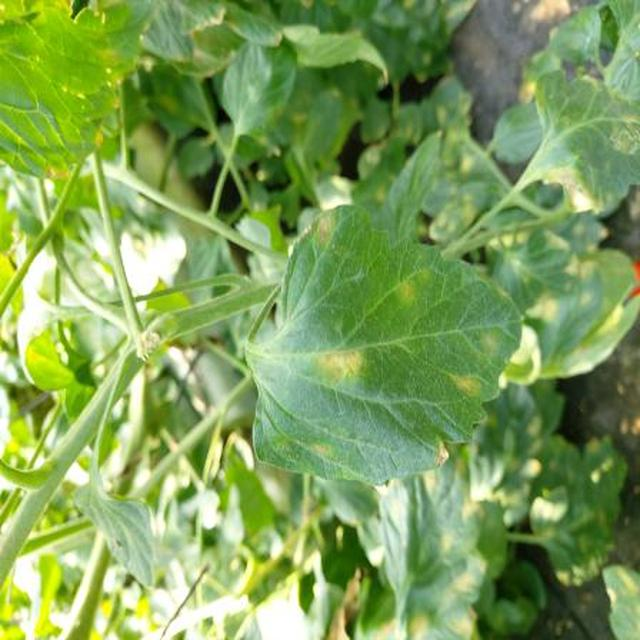Leaf Mold: (362, 292, 640, 640)
